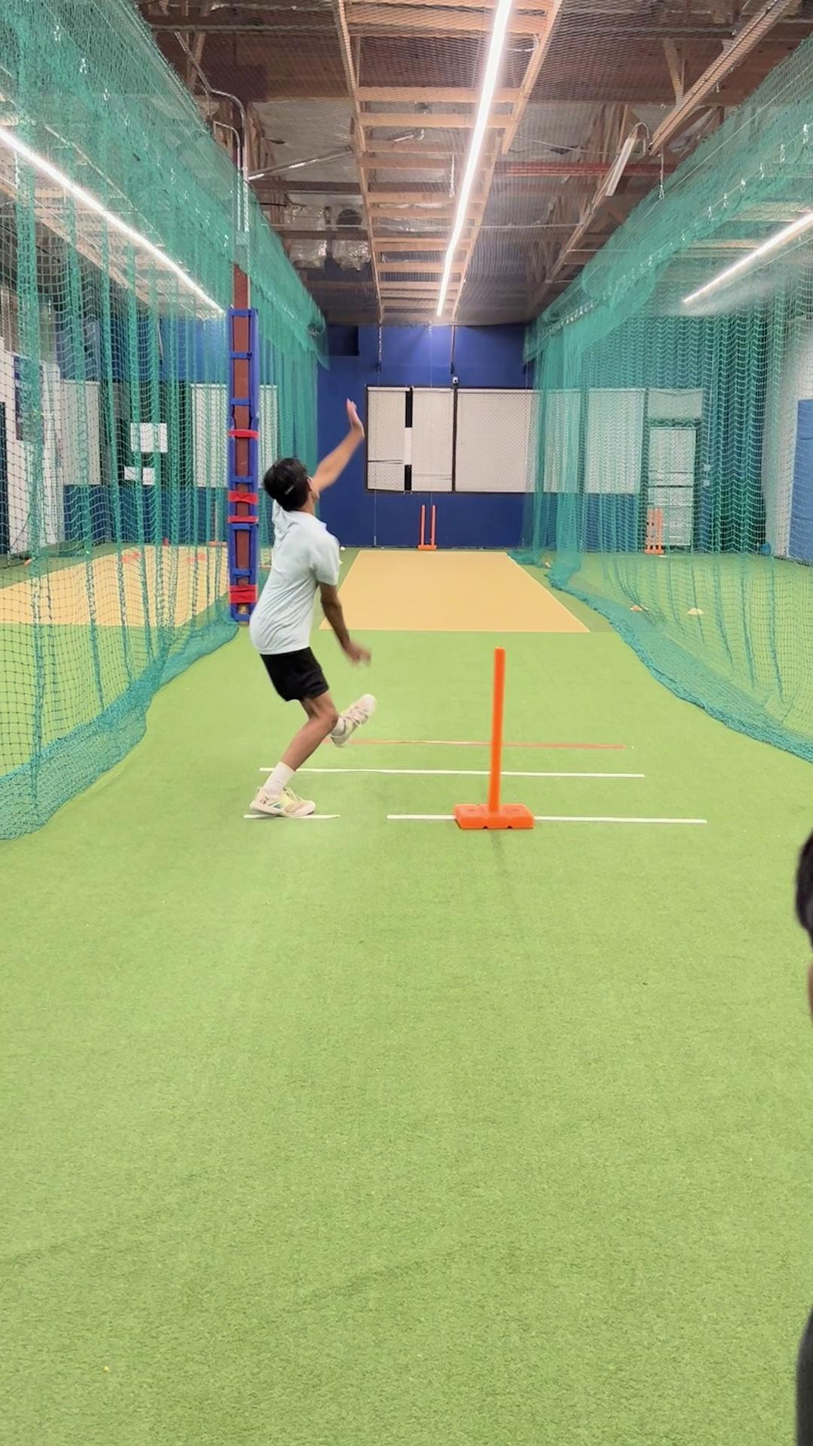ball: (351, 644, 376, 671)
